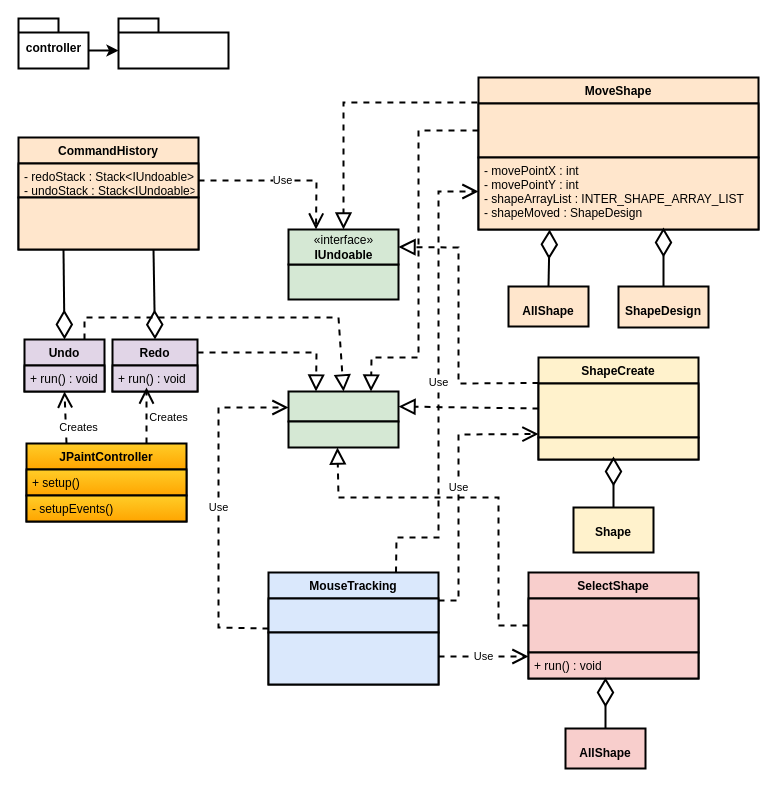
Image size: 776x786. Some labels were removed from this diagram. Each missing label, with the centre of its shape:
"+ MouseTracking + mousePressed() : void + mouseReleased() : void" goes at (x=353, y=658).
"+ redo() : boolean + undo() : boolean + add() : void" goes at (x=108, y=223).
"+ run() : void + redo() : void + undo() : void" goes at (x=618, y=130).
"+ run() : void + undo() : void + redo() : void" goes at (x=618, y=410).
"+ undo() : void + redo() : void" goes at (x=343, y=281).
"+run() : void" goes at (x=343, y=434).
"- clickPoint : Point - leftPoint : Point - paintCanvas : PaintCanvas" goes at (x=613, y=625).
"- paintCanvas : PaintCanvas - appState : ApplicationState" goes at (x=353, y=615).
"- shape : Shape" goes at (x=618, y=448).
"commandpattern" goes at (x=173, y=43).
"«interface» IEventCallBack" goes at (x=343, y=406).
